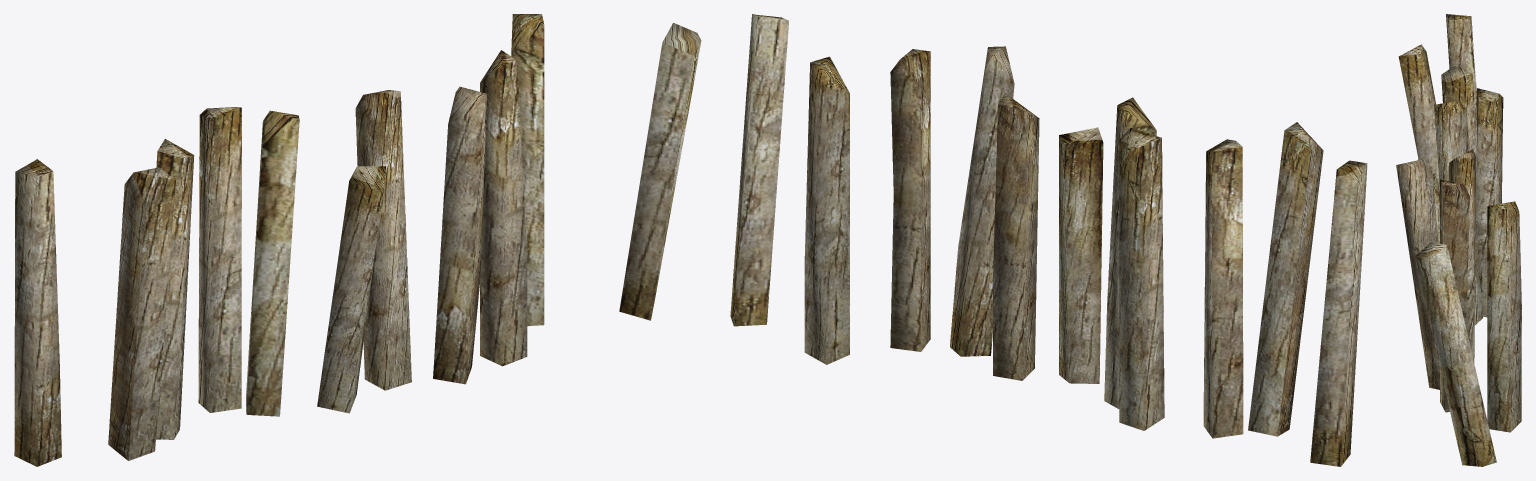
File: FenceC.FBX
3 renders of one model, left to right at view 1: azimuth 30°, elevation 25°; view 2: azimuth 150°, elevation 25°; view 3: azimuth 270°, elevation 25°, orthographic. The views are drawn at different scales.
Visible parts, largest first — view 1: FenceC; view 2: FenceC; view 3: FenceC.
Boxes of the visible parts, x1,y1,x2,y2 form: FenceC: [14, 14, 701, 466]; FenceC: [730, 14, 1367, 466]; FenceC: [1396, 14, 1521, 466].
Size of the model in its own units: 7.81 by 3.48 by 1.75.
Materials: 1 (1 with a texture image).
